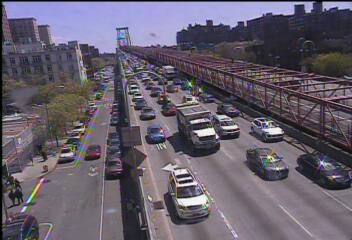neg: (68, 176, 88, 202), (245, 77, 265, 103), (131, 115, 149, 140), (161, 164, 178, 187), (216, 67, 233, 90), (173, 120, 188, 139), (173, 49, 186, 66), (120, 81, 132, 98), (91, 97, 103, 112), (125, 150, 136, 165), (74, 118, 85, 133)
pos: (5, 188, 19, 207), (12, 186, 24, 200), (33, 142, 44, 156), (27, 153, 37, 166), (10, 176, 20, 189), (40, 151, 47, 162)
